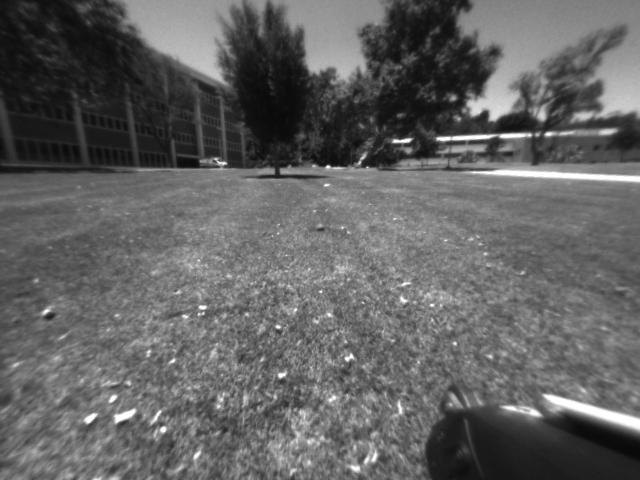dogtoy: (309, 216, 332, 238)
